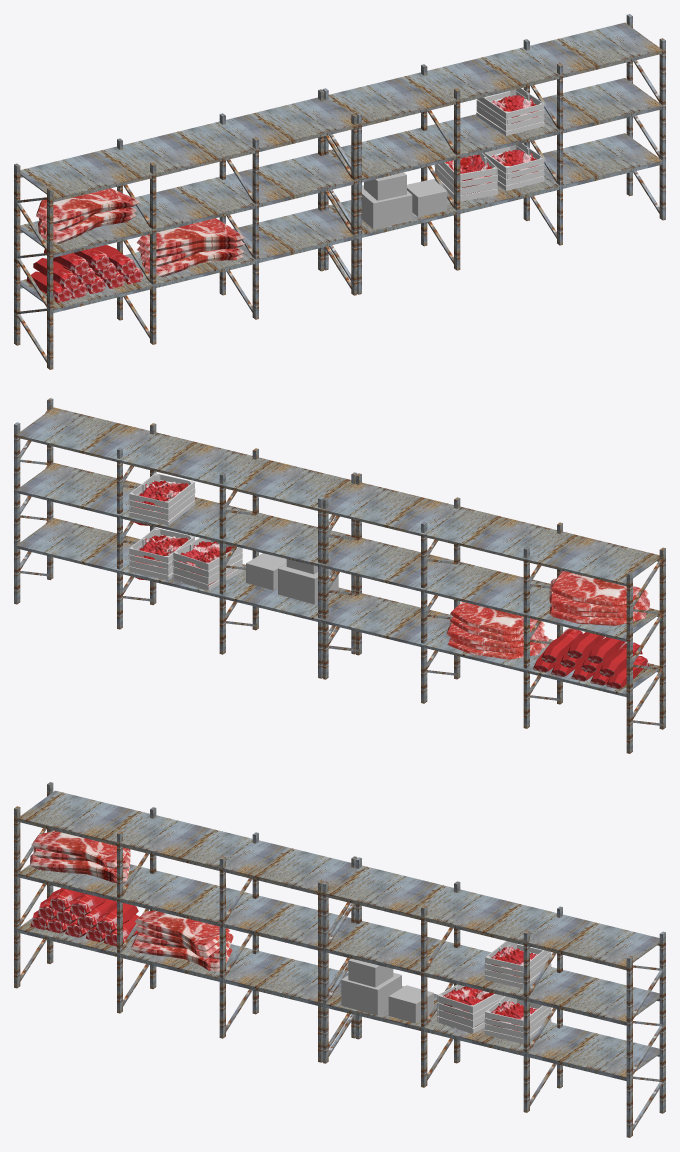
File: shelf 4.fbx
The picture shows the model from 3 angles, top to bottom: view 1: azimuth 30°, elevation 25°; view 2: azimuth 150°, elevation 25°; view 3: azimuth 330°, elevation 25°; orthographic projection.
Parts seen in each view (by area): view 1: Shelf Freezer2.011, Shelf Freezer2.002, Box of strawberries.010, Plane.020, Plane.015, Box of strawberries.009, Box of strawberries.008, Box Packaging.027, Box Packaging.029, Plane.017, Plane.013, Box Packaging.028 (+7 smaller); view 2: Shelf Freezer2.002, Shelf Freezer2.011, Box of strawberries.010, Plane.015, Box of strawberries.009, Plane.020, Box of strawberries.008, Box Packaging.027, Box Packaging.029, Plane.014, Plane.018, Strawberry.009 (+9 smaller); view 3: Shelf Freezer2.002, Shelf Freezer2.011, Plane.020, Plane.015, Box of strawberries.009, Box of strawberries.008, Box of strawberries.010, Box Packaging.027, Box Packaging.029, Plane.013, Plane.017, Box Packaging.028 (+4 smaller).
Boxes of the visible parts, x1,y1,x2,y2 form: Shelf Freezer2.011: [14, 88, 361, 369]; Shelf Freezer2.002: [318, 14, 665, 295]; Box of strawberries.010: [476, 88, 544, 135]; Plane.020: [136, 218, 244, 251]; Plane.015: [36, 188, 139, 224]; Box of strawberries.009: [434, 153, 497, 201]; Box of strawberries.008: [483, 143, 544, 190]; Box Packaging.027: [362, 185, 412, 228]; Box Packaging.029: [407, 179, 447, 216]; Plane.017: [143, 248, 243, 277]; Plane.013: [42, 207, 136, 241]; Box Packaging.028: [364, 172, 406, 200]; Shelf Freezer2.002: [14, 398, 361, 679]; Shelf Freezer2.011: [318, 472, 665, 753]; Box of strawberries.010: [128, 473, 195, 525]; Plane.015: [550, 571, 648, 606]; Box of strawberries.009: [172, 538, 242, 590]; Plane.020: [450, 602, 544, 634]; Box of strawberries.008: [128, 527, 194, 580]; Box Packaging.027: [278, 563, 338, 604]; Box Packaging.029: [246, 553, 286, 590]; Plane.014: [549, 578, 646, 613]; Plane.018: [446, 623, 544, 648]; Strawberry.009: [132, 480, 188, 525]; Shelf Freezer2.002: [318, 856, 665, 1137]; Shelf Freezer2.011: [14, 782, 361, 1063]; Plane.020: [135, 910, 229, 951]; Plane.015: [31, 831, 128, 868]; Box of strawberries.009: [437, 984, 504, 1033]; Box of strawberries.008: [484, 996, 551, 1043]; Box of strawberries.010: [484, 941, 551, 988]; Box Packaging.027: [341, 972, 401, 1015]; Box Packaging.029: [388, 985, 433, 1023]; Plane.013: [30, 854, 127, 878]; Plane.017: [130, 939, 226, 968]; Box Packaging.028: [348, 958, 393, 987].
Bounding box in the file's own units: 989 × 275 × 112.
